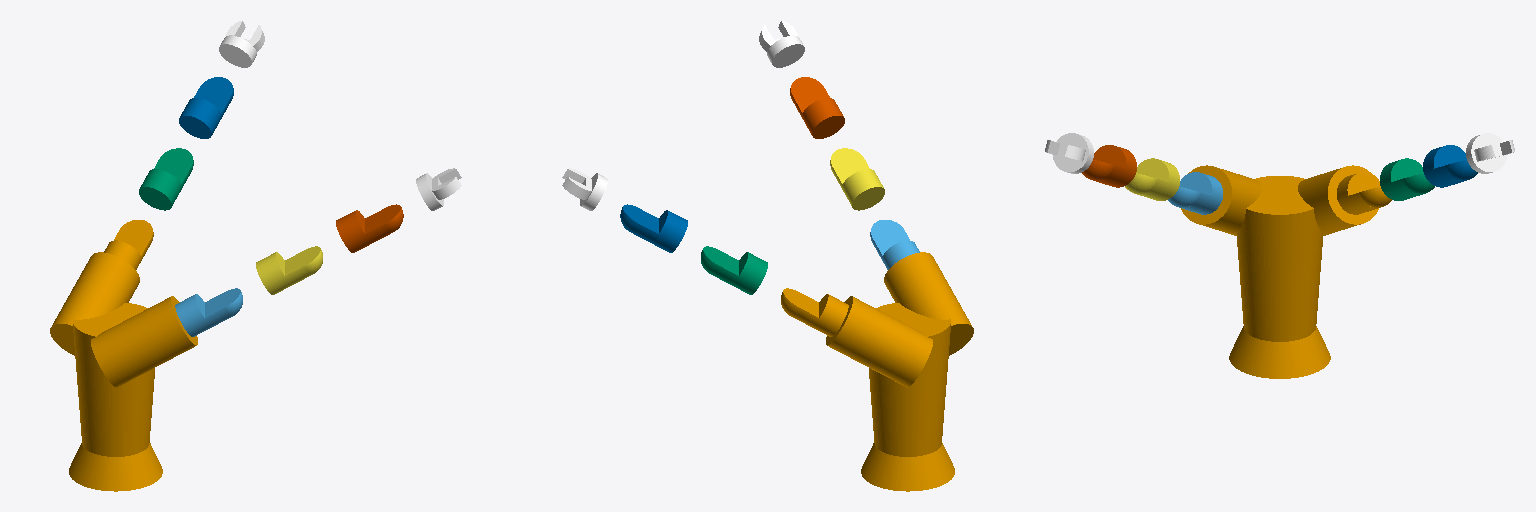
The robot description file, URDF, robot "enesbot_dualarm_v0.1":
<?xml version="1.0" ?>
<!-- =================================================================================== -->
<!-- |    This document was autogenerated by xacro from nv0_1.xacro                    | -->
<!-- |    EDITING THIS FILE BY HAND IS NOT RECOMMENDED                                 | -->
<!-- =================================================================================== -->
<robot name="enesbot_dualarm_v0.1" xmlns:xacro="http://www.ros.org/wiki/xacro">
  <link name="map">
    <visual>
      <geometry>
        <mesh filename="package://enesbot_dualarm/meshes/v0_1/nv01base.stl"/>
      </geometry>
    </visual>
  </link>
  <joint name="jr1" type="continuous">
    <parent link="map"/>
    <child link="r1"/>
    <origin rpy="0 -0.523599 -0.523599" xyz="0 -0.15 0.4"/>
    <axis xyz="1 0 0"/>
  </joint>
  <link name="r1">
    <visual>
      <geometry>
        <mesh filename="package://enesbot_dualarm/meshes/v0_1/nv01_1.stl"/>
      </geometry>
    </visual>
  </link>
  <joint name="jr2" type="continuous">
    <parent link="r1"/>
    <child link="r2"/>
    <origin rpy="0 0 0" xyz="0.1 0 0"/>
    <axis xyz="0 0 1"/>
  </joint>
  <link name="r2">
    <visual>
      <geometry>
        <mesh filename="package://enesbot_dualarm/meshes/v0_1/nv01_0.stl"/>
      </geometry>
    </visual>
  </link>
  <joint name="jr3" type="continuous">
    <parent link="r2"/>
    <child link="r3"/>
    <origin rpy="0 0 0" xyz="0.1 0 0"/>
    <axis xyz="1 0 0"/>
  </joint>
  <link name="r3">
    <visual>
      <geometry>
        <mesh filename="package://enesbot_dualarm/meshes/v0_1/nv01_1.stl"/>
      </geometry>
    </visual>
  </link>
  <joint name="jr4" type="continuous">
    <parent link="r3"/>
    <child link="r4"/>
    <origin rpy="0 0 0" xyz="0.1 0 0"/>
    <axis xyz="0 0 1"/>
  </joint>
  <link name="r4">
    <visual>
      <geometry>
        <mesh filename="package://enesbot_dualarm/meshes/v0_1/nv01_0.stl"/>
      </geometry>
    </visual>
  </link>
  <joint name="jr5" type="continuous">
    <parent link="r4"/>
    <child link="r5"/>
    <origin rpy="0 0 0" xyz="0.1 0 0"/>
    <axis xyz="1 0 0"/>
  </joint>
  <link name="r5">
    <visual>
      <geometry>
        <mesh filename="package://enesbot_dualarm/meshes/v0_1/nv01_1.stl"/>
      </geometry>
    </visual>
  </link>
  <joint name="jr6" type="continuous">
    <parent link="r5"/>
    <child link="r6"/>
    <origin rpy="0 0 0" xyz="0.1 0 0"/>
    <axis xyz="0 0 1"/>
  </joint>
  <link name="r6">
    <visual>
      <geometry>
        <mesh filename="package://enesbot_dualarm/meshes/v0_1/nv01_0.stl"/>
      </geometry>
    </visual>
  </link>
  <joint name="jr7" type="continuous">
    <parent link="r6"/>
    <child link="r7"/>
    <origin rpy="0 0 0" xyz="0.1 0 0"/>
    <axis xyz="1 0 0"/>
  </joint>
  <link name="r7">
    <visual>
      <geometry>
        <mesh filename="package://enesbot_dualarm/meshes/v0_1/nv01_2.stl"/>
      </geometry>
      <material name="white">
        <color rgba="1 1 1 1"/>
      </material>
    </visual>
  </link>
  <joint name="jl1" type="continuous">
    <parent link="map"/>
    <child link="l1"/>
    <origin rpy="0 -0.523599 0.523599" xyz="0 0.15 0.4"/>
    <axis xyz="1 0 0"/>
  </joint>
  <link name="l1">
    <visual>
      <geometry>
        <mesh filename="package://enesbot_dualarm/meshes/v0_1/nv01_1.stl"/>
      </geometry>
    </visual>
  </link>
  <joint name="jl2" type="continuous">
    <parent link="l1"/>
    <child link="l2"/>
    <origin rpy="0 0 0" xyz="0.1 0 0"/>
    <axis xyz="0 0 1"/>
  </joint>
  <link name="l2">
    <visual>
      <geometry>
        <mesh filename="package://enesbot_dualarm/meshes/v0_1/nv01_0.stl"/>
      </geometry>
    </visual>
  </link>
  <joint name="jl3" type="continuous">
    <parent link="l2"/>
    <child link="l3"/>
    <origin rpy="0 0 0" xyz="0.1 0 0"/>
    <axis xyz="1 0 0"/>
  </joint>
  <link name="l3">
    <visual>
      <geometry>
        <mesh filename="package://enesbot_dualarm/meshes/v0_1/nv01_1.stl"/>
      </geometry>
    </visual>
  </link>
  <joint name="jl4" type="continuous">
    <parent link="l3"/>
    <child link="l4"/>
    <origin rpy="0 0 0" xyz="0.1 0 0"/>
    <axis xyz="0 0 1"/>
  </joint>
  <link name="l4">
    <visual>
      <geometry>
        <mesh filename="package://enesbot_dualarm/meshes/v0_1/nv01_0.stl"/>
      </geometry>
    </visual>
  </link>
  <joint name="jl5" type="continuous">
    <parent link="l4"/>
    <child link="l5"/>
    <origin rpy="0 0 0" xyz="0.1 0 0"/>
    <axis xyz="1 0 0"/>
  </joint>
  <link name="l5">
    <visual>
      <geometry>
        <mesh filename="package://enesbot_dualarm/meshes/v0_1/nv01_1.stl"/>
      </geometry>
    </visual>
  </link>
  <joint name="jl6" type="continuous">
    <parent link="l5"/>
    <child link="l6"/>
    <origin rpy="0 0 0" xyz="0.1 0 0"/>
    <axis xyz="0 0 1"/>
  </joint>
  <link name="l6">
    <visual>
      <geometry>
        <mesh filename="package://enesbot_dualarm/meshes/v0_1/nv01_0.stl"/>
      </geometry>
    </visual>
  </link>
  <joint name="jl7" type="continuous">
    <parent link="l6"/>
    <child link="l7"/>
    <origin rpy="0 0 0" xyz="0.1 0 0"/>
    <axis xyz="1 0 0"/>
  </joint>
  <link name="l7">
    <visual>
      <geometry>
        <mesh filename="package://enesbot_dualarm/meshes/v0_1/nv01_2.stl"/>
      </geometry>
      <material name="white">
        <color rgba="1 1 1 1"/>
      </material>
    </visual>
  </link>
</robot>

--- What the picture shows (computed from the rendered views, not written in the file) ---
3 views of the same robot in one strip: view 1: azimuth 30°, elevation 25°; view 2: azimuth 150°, elevation 25°; view 3: azimuth 270°, elevation 25° (orthographic).
Robot: enesbot_dualarm_v0.1 — 15 links, 14 joints (14 continuous); root link map; default pose: all joints at 0.
Links seen in each view (by area): view 1: map, l3, l5, r5, r1, r3, l1, l7, r7; view 2: map, r3, r5, l5, l1, l3, r1, r7, l7; view 3: map, r3, l3, r1, l1, r5, l5, r7, l7.
Link boxes in pixels (x1,y1,x2,y2): map: (50, 252, 197, 491); l3: (139, 148, 193, 210); l5: (179, 77, 233, 138); r5: (336, 204, 403, 252); r1: (175, 288, 242, 336); r3: (256, 246, 322, 294); l1: (104, 220, 153, 269); l7: (219, 21, 264, 67); r7: (416, 168, 461, 210); map: (826, 252, 973, 491); r3: (830, 148, 884, 210); r5: (790, 77, 844, 138); l5: (620, 204, 687, 252); l1: (781, 288, 848, 336); l3: (701, 246, 767, 294); r1: (870, 220, 919, 269); r7: (759, 21, 804, 67); l7: (562, 168, 607, 210); map: (1181, 165, 1378, 378); r3: (1125, 158, 1179, 200); l3: (1380, 158, 1434, 200); r1: (1168, 172, 1222, 214); l1: (1337, 172, 1391, 214); r5: (1082, 145, 1136, 187); l5: (1423, 145, 1477, 187); r7: (1045, 133, 1093, 173); l7: (1466, 133, 1514, 173).
Bounding box of the posed robot: 0.7186 × 0.9466 × 0.7531 m (x, y, z).
Meshes: 4 distinct files referenced, 9 mesh visuals loaded (3 binary STL); not drawn: 6 (reference not matched to a file when rendering).